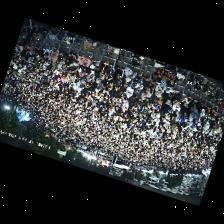person: (112, 54, 125, 78), (66, 74, 85, 89), (78, 54, 91, 69), (63, 51, 78, 64), (172, 94, 181, 115), (143, 77, 155, 92), (152, 87, 162, 104), (163, 87, 177, 99), (125, 67, 137, 80), (48, 50, 59, 64), (99, 61, 110, 75), (165, 99, 173, 118), (142, 99, 150, 118), (89, 81, 98, 97), (67, 65, 79, 76), (132, 73, 142, 86), (155, 83, 165, 96), (105, 69, 113, 85), (125, 83, 134, 97), (187, 99, 198, 110), (182, 94, 193, 105), (122, 75, 132, 87), (73, 80, 81, 95), (87, 67, 95, 81), (113, 78, 122, 90), (193, 105, 199, 122), (135, 100, 144, 111), (34, 47, 45, 56), (135, 80, 143, 92), (43, 46, 51, 58), (117, 85, 126, 95), (200, 107, 205, 124), (122, 99, 129, 111), (109, 90, 117, 100), (196, 102, 204, 112), (142, 90, 152, 98), (181, 116, 189, 126), (58, 59, 64, 72), (52, 59, 59, 70), (210, 108, 217, 119), (216, 112, 223, 123), (78, 68, 87, 76), (90, 60, 99, 68), (16, 44, 24, 53), (97, 74, 105, 83), (171, 119, 177, 130), (216, 112, 222, 123), (52, 69, 60, 77), (204, 121, 209, 132), (137, 92, 142, 102), (30, 43, 35, 53)
